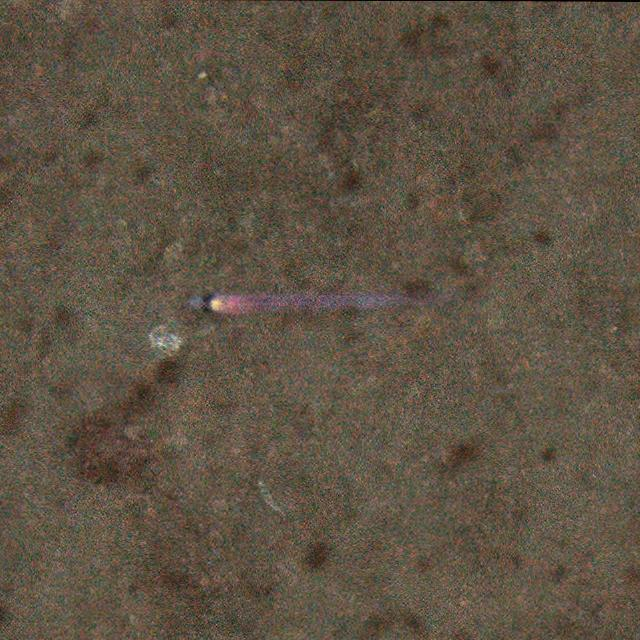roundfish: (190, 286, 460, 317)
